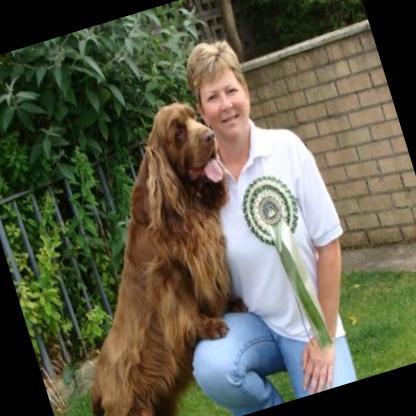Sussex_spaniel: (7, 89, 295, 416)
